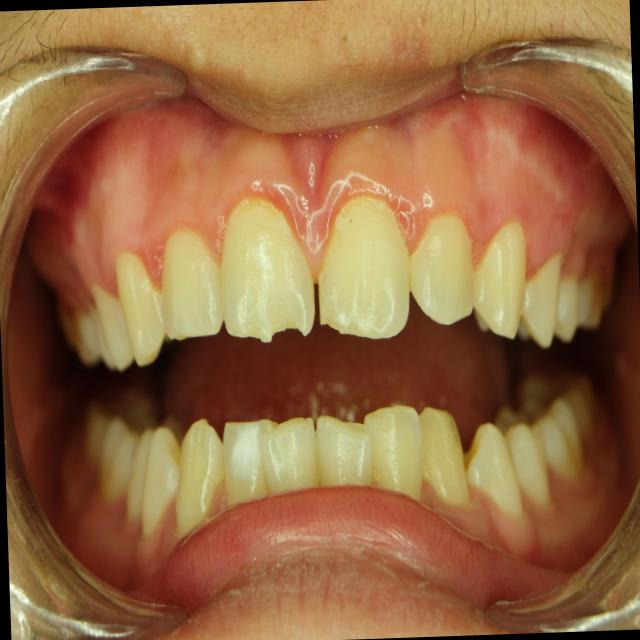Caries: (350, 220, 351, 221)
Tooth: (220, 198, 315, 342), (318, 198, 410, 338), (410, 215, 474, 324), (161, 230, 223, 339), (115, 252, 173, 365), (473, 222, 525, 339), (175, 418, 224, 536), (364, 404, 422, 500), (463, 422, 522, 515), (418, 406, 470, 505), (223, 419, 278, 504), (517, 252, 562, 349), (141, 426, 181, 535), (262, 417, 319, 493), (316, 414, 373, 484), (504, 420, 550, 505)
